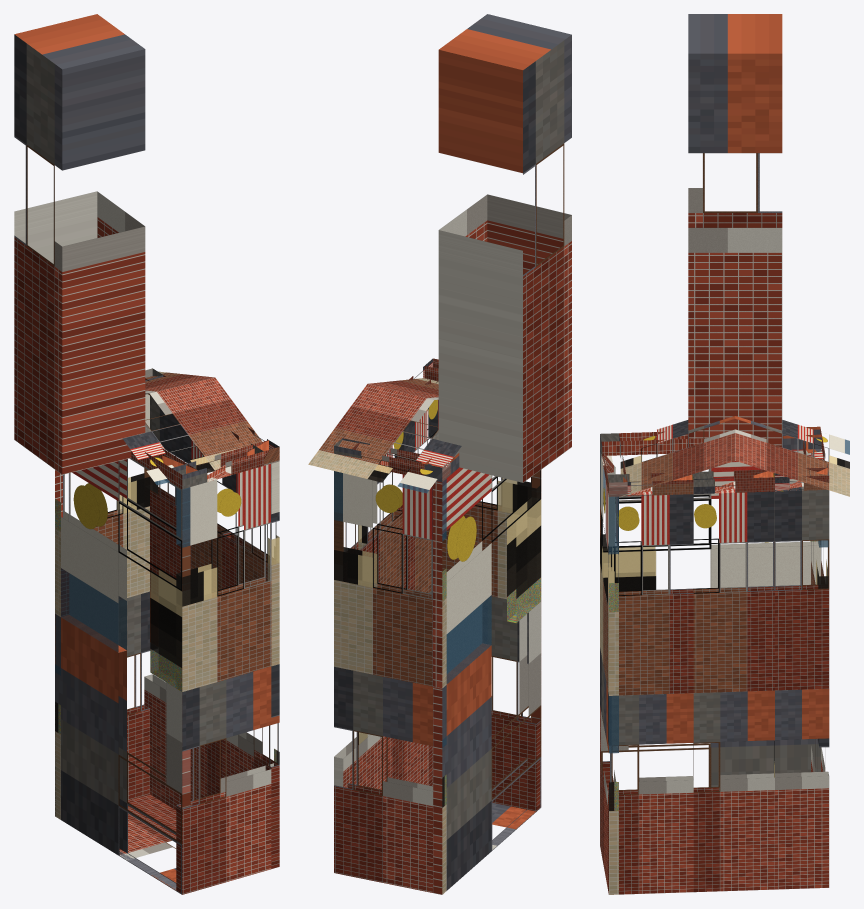
3 renders of one model, left to right at view 1: azimuth 30°, elevation 25°; view 2: azimuth 150°, elevation 25°; view 3: azimuth 270°, elevation 25°, orthographic. The views are drawn at different scales.
Visible parts, largest first — view 1: 316903729__chimney_0_xb, 316903729__wall_0_xb, 316903729__wall_1_xb, 316903729__wall_5_xb, 316903729__wall_2_xb, 316903729__wall_0_xf, 316903729_roof_-1_xb, 316903729__wall_4_xb, 316903729__wall_3_xb, 316903729__base, 316903729__wall_1_xf, 316903729__cornice_1 (+3 smaller); view 2: 316903729__chimney_0_xb, 316903729__wall_5_xb, 316903729__wall_0_xb, 316903729__wall_1_xb, 316903729_roof_1_xb, 316903729__wall_0_xf, 316903729__wall_3_xb, 316903729__wall_2_xb, 316903729__wall_5_xf, 316903729__wall_4_xb, 316903729__cornice_5, 316903729__wall_1_xf (+2 smaller); view 3: 316903729__chimney_0_xb, 316903729__wall_3_xb, 316903729__wall_2_xb, 316903729__wall_4_xb, 316903729__wall_0_xb, 316903729__wall_1_xb, 316903729_roof_1_xb, 316903729_roof_-1_xb, 316903729__cornice_0, 316903729__wall_1_xf, 316903729__wall_0_xf, 316903729__cornice_3 (+4 smaller).
Part boxes in pixels (box(x1,y1,x2,y2)): 316903729__chimney_0_xb: box(14, 14, 145, 474); 316903729__wall_0_xb: box(55, 458, 190, 894); 316903729__wall_1_xb: box(176, 464, 279, 894); 316903729__wall_5_xb: box(55, 394, 158, 819); 316903729__wall_2_xb: box(222, 461, 279, 868); 316903729__wall_0_xf: box(61, 568, 181, 691); 316903729_roof_-1_xb: box(122, 377, 262, 484); 316903729__wall_4_xb: box(144, 395, 175, 809); 316903729__wall_3_xb: box(175, 418, 230, 810); 316903729__base: box(119, 794, 176, 890); 316903729__wall_1_xf: box(176, 487, 276, 761); 316903729__cornice_1: box(172, 440, 268, 489); 316903729__chimney_0_xb: box(438, 14, 571, 482); 316903729__wall_5_xb: box(334, 469, 446, 894); 316903729__wall_0_xb: box(433, 467, 541, 894); 316903729__wall_1_xb: box(428, 399, 540, 811); 316903729_roof_1_xb: box(308, 384, 461, 493); 316903729__wall_0_xf: box(447, 500, 540, 683); 316903729__wall_3_xb: box(358, 432, 404, 789); 316903729__wall_2_xb: box(394, 399, 437, 786); 316903729__wall_5_xf: box(334, 471, 446, 806); 316903729__wall_4_xb: box(334, 471, 367, 787); 316903729__cornice_5: box(334, 438, 450, 481); 316903729__wall_1_xf: box(498, 478, 539, 512); 316903729__chimney_0_xb: box(688, 14, 782, 446); 316903729__wall_3_xb: box(693, 488, 774, 892); 316903729__wall_2_xb: box(608, 491, 693, 894); 316903729__wall_4_xb: box(774, 486, 829, 889); 316903729__wall_0_xb: box(600, 449, 820, 786); 316903729__wall_1_xb: box(600, 449, 618, 894); 316903729_roof_1_xb: box(735, 416, 849, 496); 316903729_roof_-1_xb: box(620, 416, 735, 496); 316903729__cornice_0: box(601, 426, 821, 455); 316903729__wall_1_xf: box(600, 451, 618, 810); 316903729__wall_0_xf: box(603, 547, 655, 600); 316903729__cornice_3: box(692, 469, 774, 493).
Size of the model in its own units: 0.3198 by 1.4 by 0.3981.
Materials: 1 (1 with a texture image).
